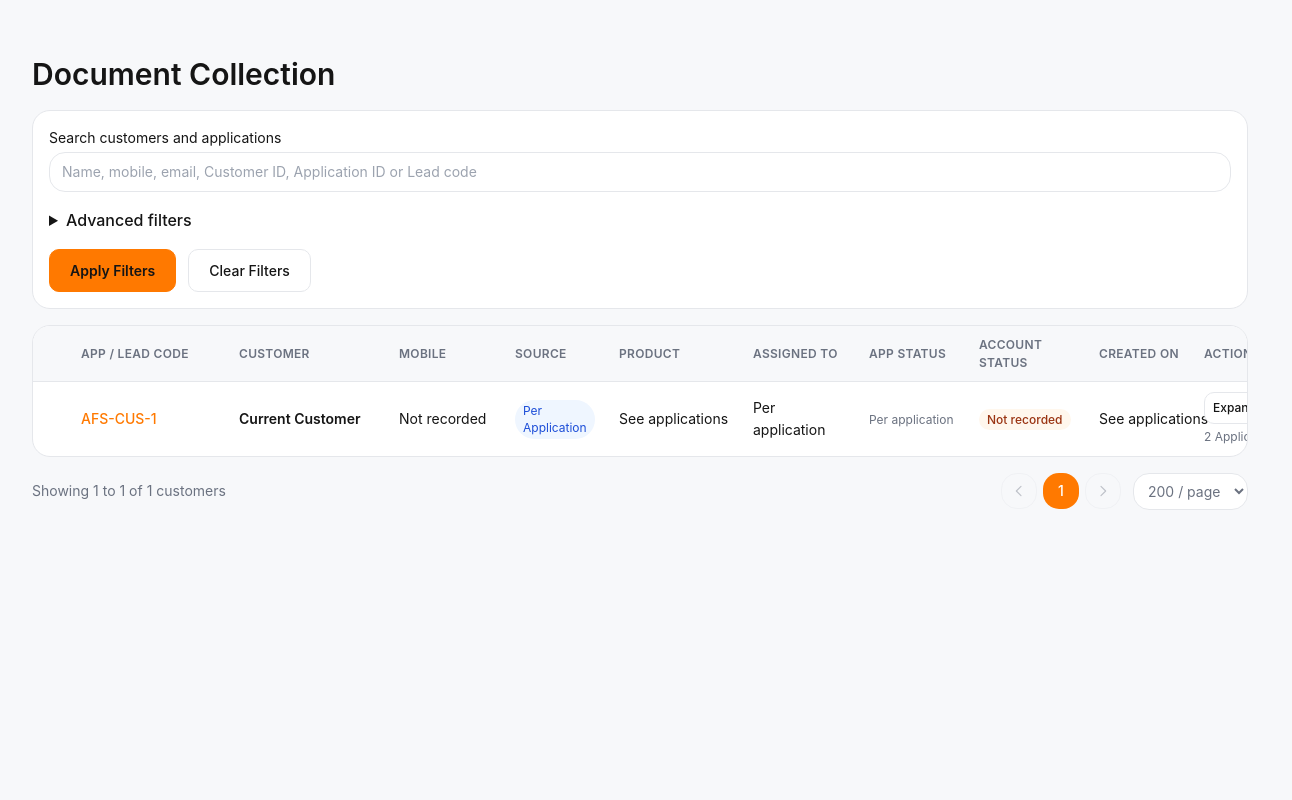
Scenario: defaults to 200 customer rows, expands applications and applies filters server-side
Expected: the text "Current Customer" is shown, x1=227 y1=382 x2=387 y2=456
Click the button "Expand" at (1234, 408), box x1=1204 y1=392 x2=1265 y2=424
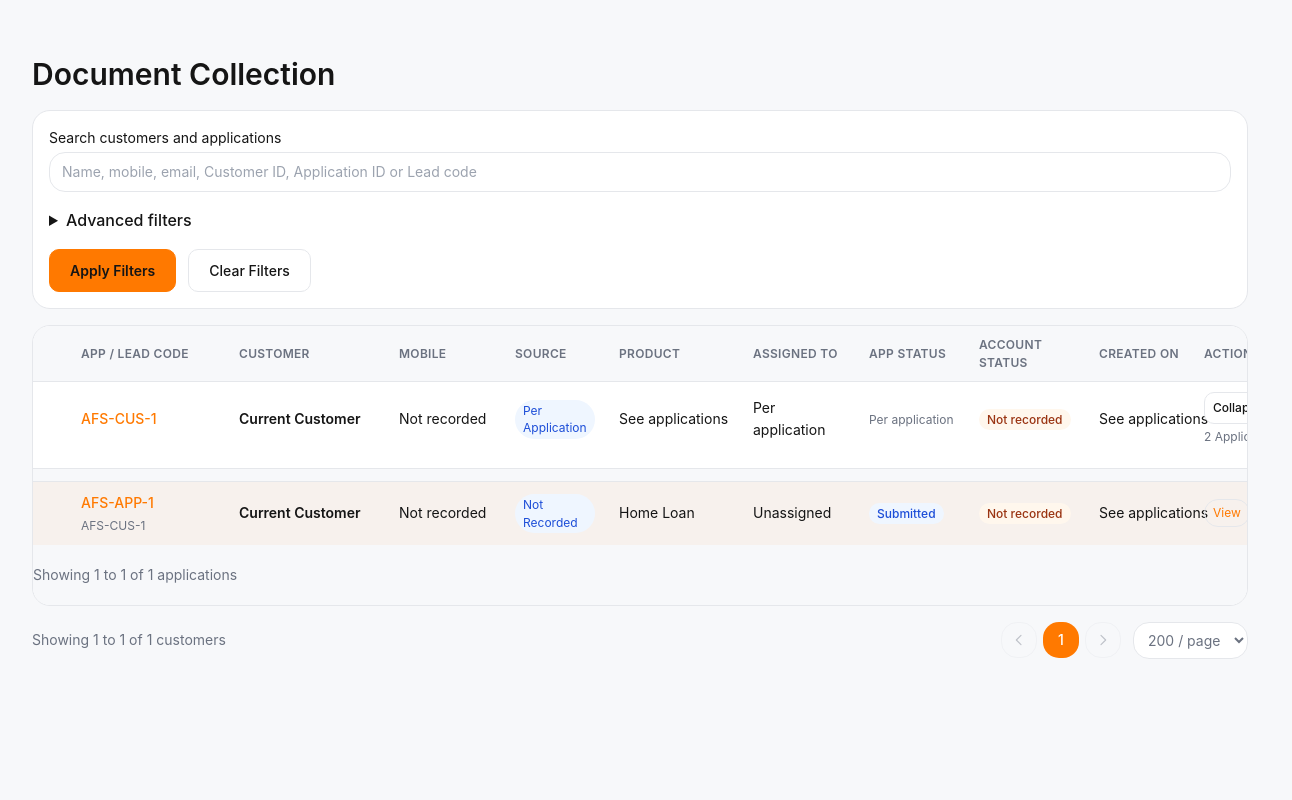
Replace the text in the search field with "AFS-CUS-1" at (640, 172), box x1=49 y1=152 x2=1231 y2=192
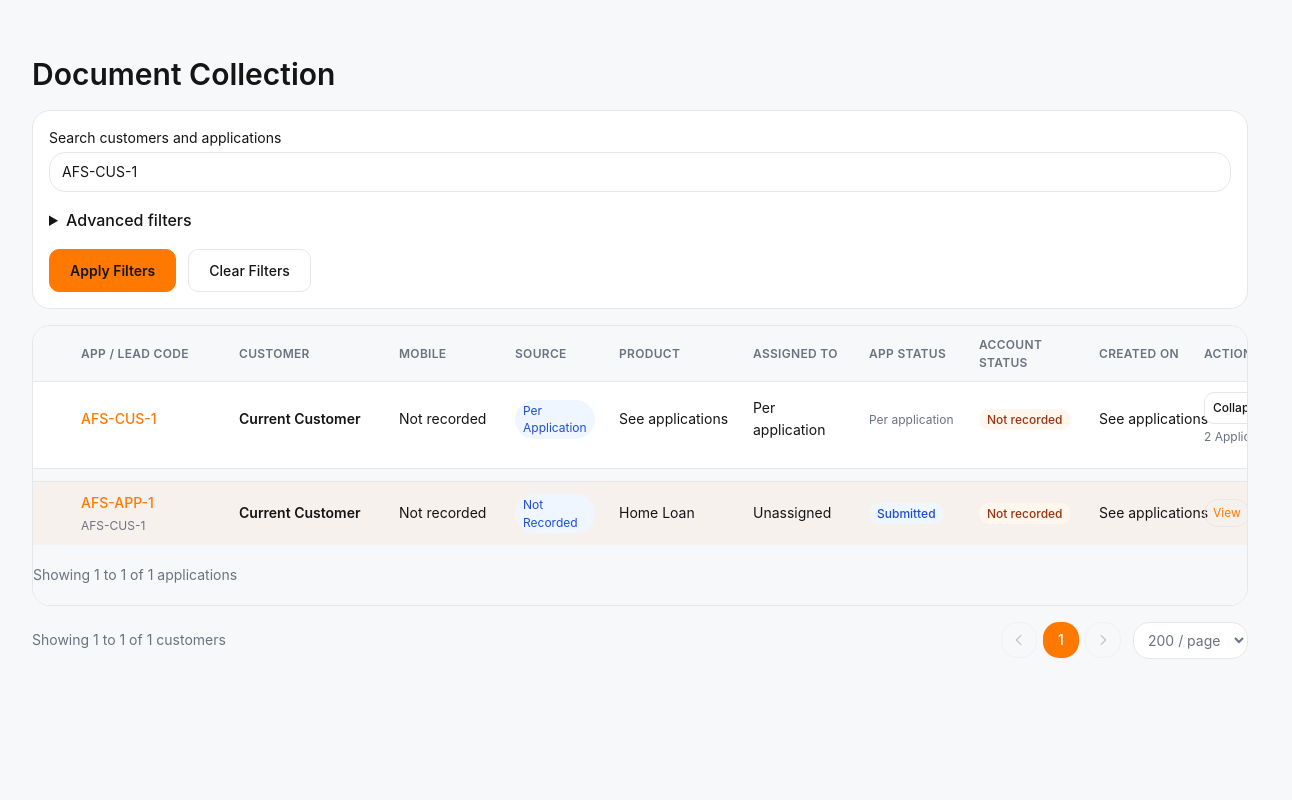
Click the button "Apply Filters" at (113, 271), box x1=49 y1=249 x2=176 y2=292
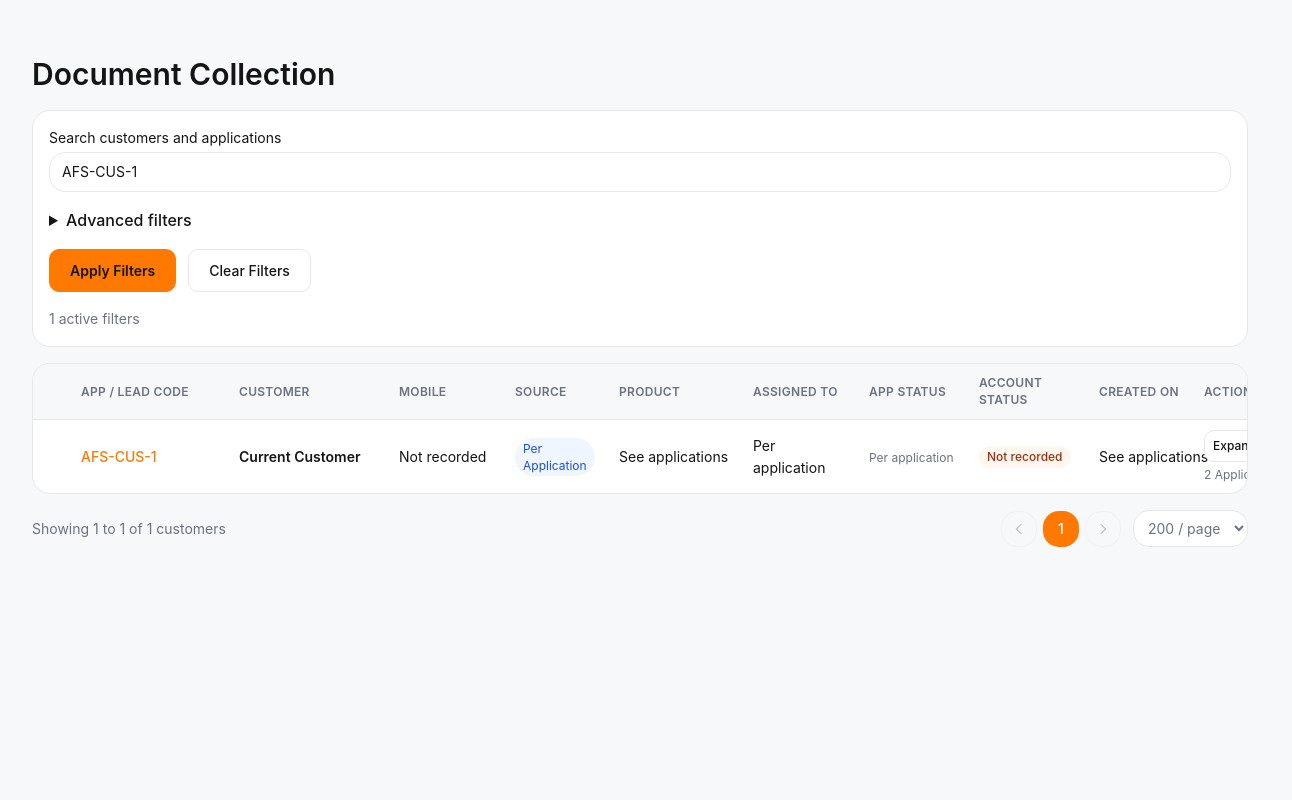
Click the button "Clear Filters" at (250, 271), box x1=188 y1=249 x2=311 y2=292
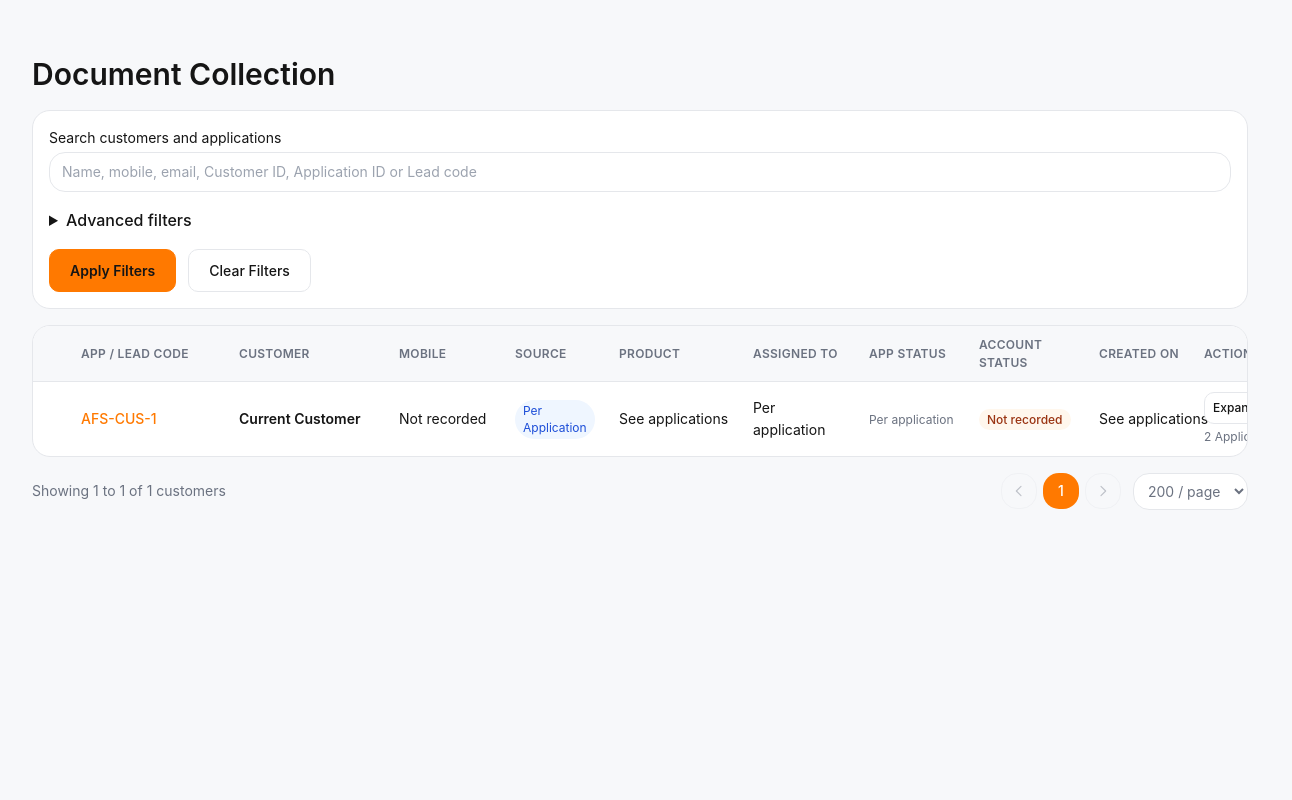
Now the search field is empty, box x1=49 y1=152 x2=1231 y2=192
